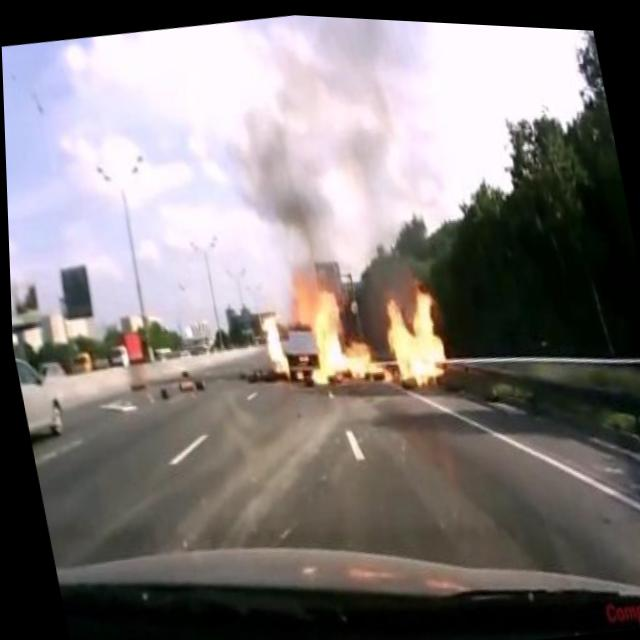fire: (290, 242, 457, 412), (253, 299, 291, 376)
